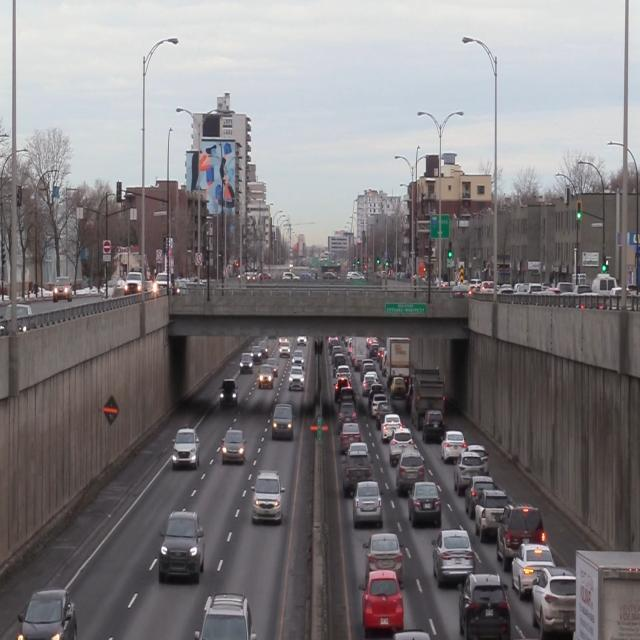Car: (157, 508, 205, 582), (15, 588, 77, 639), (193, 592, 257, 639), (250, 470, 285, 524), (170, 427, 200, 469)
Traffic-light: (115, 180, 122, 202), (575, 200, 581, 221), (601, 257, 608, 273)
